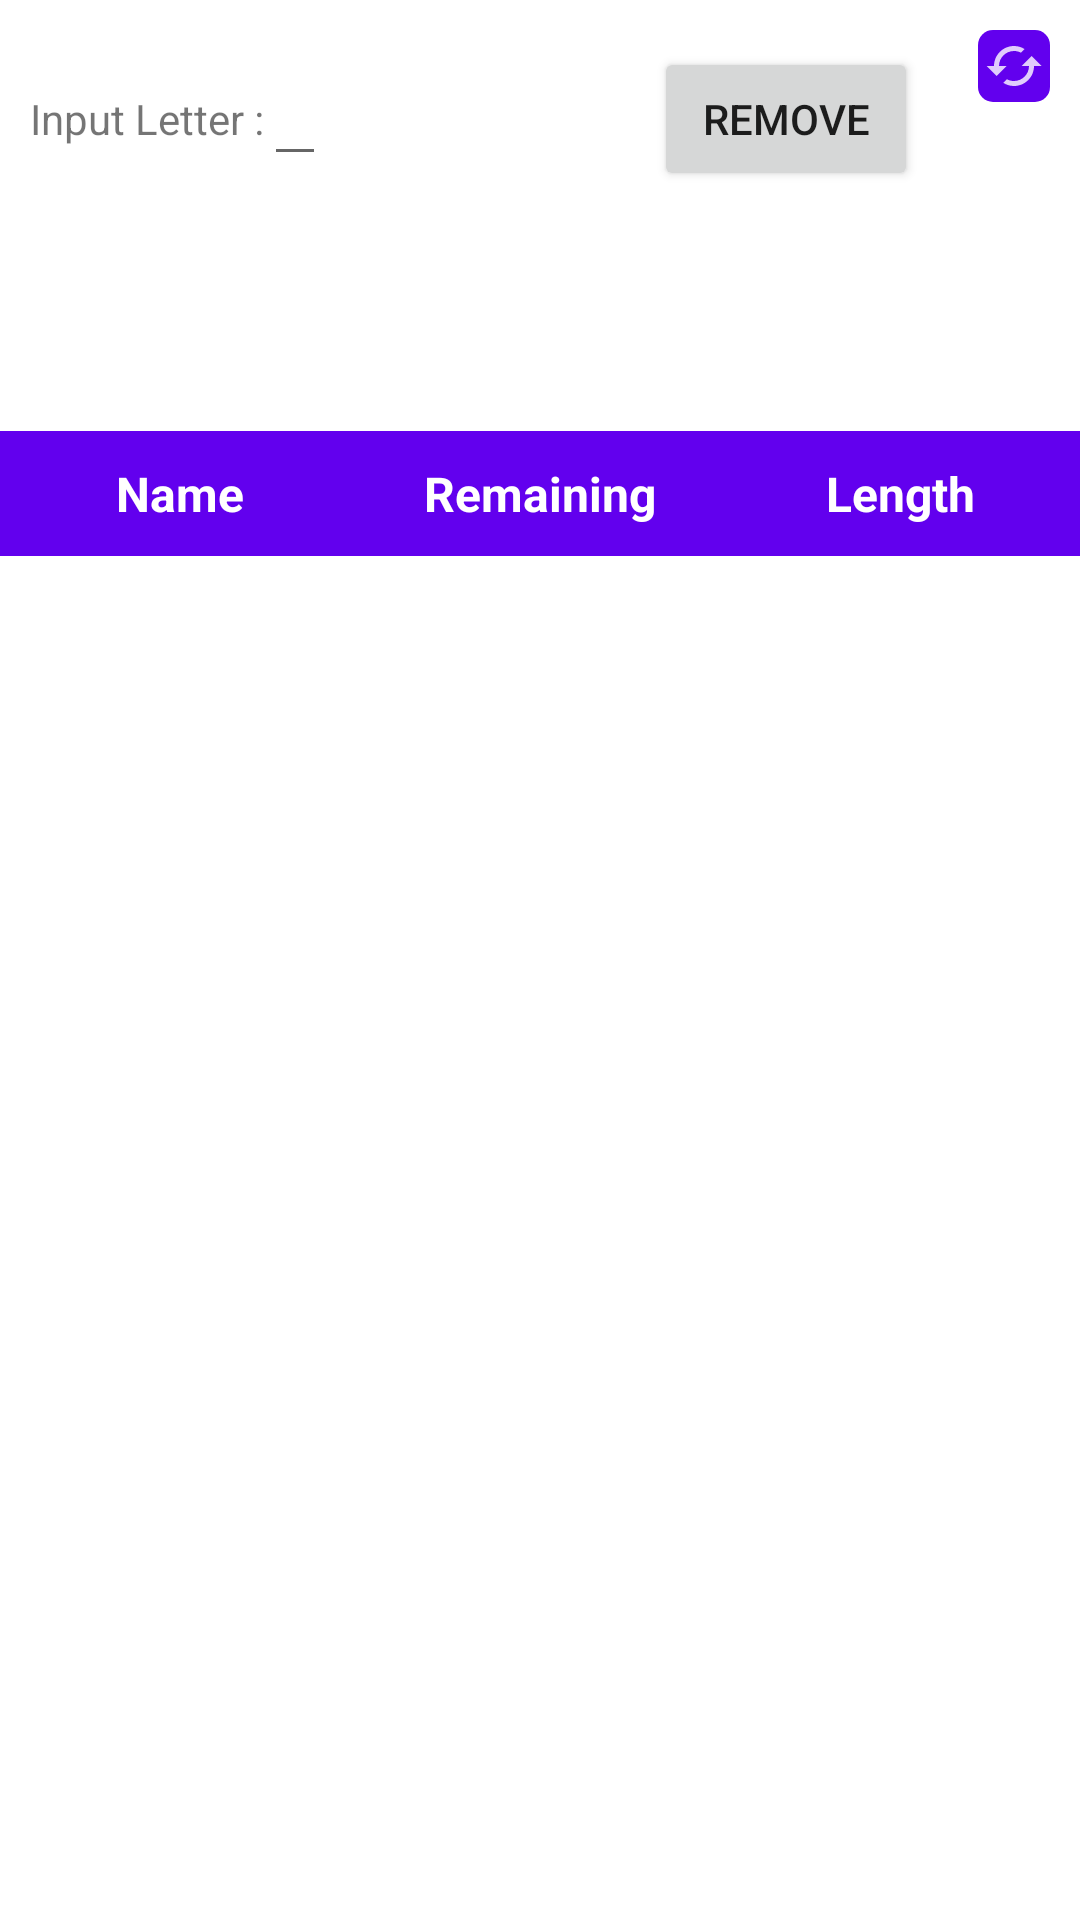

Named icons in this screenshot (1080*1920) and their centers, (x=x, y=y):
looper: (x=1014, y=66)
